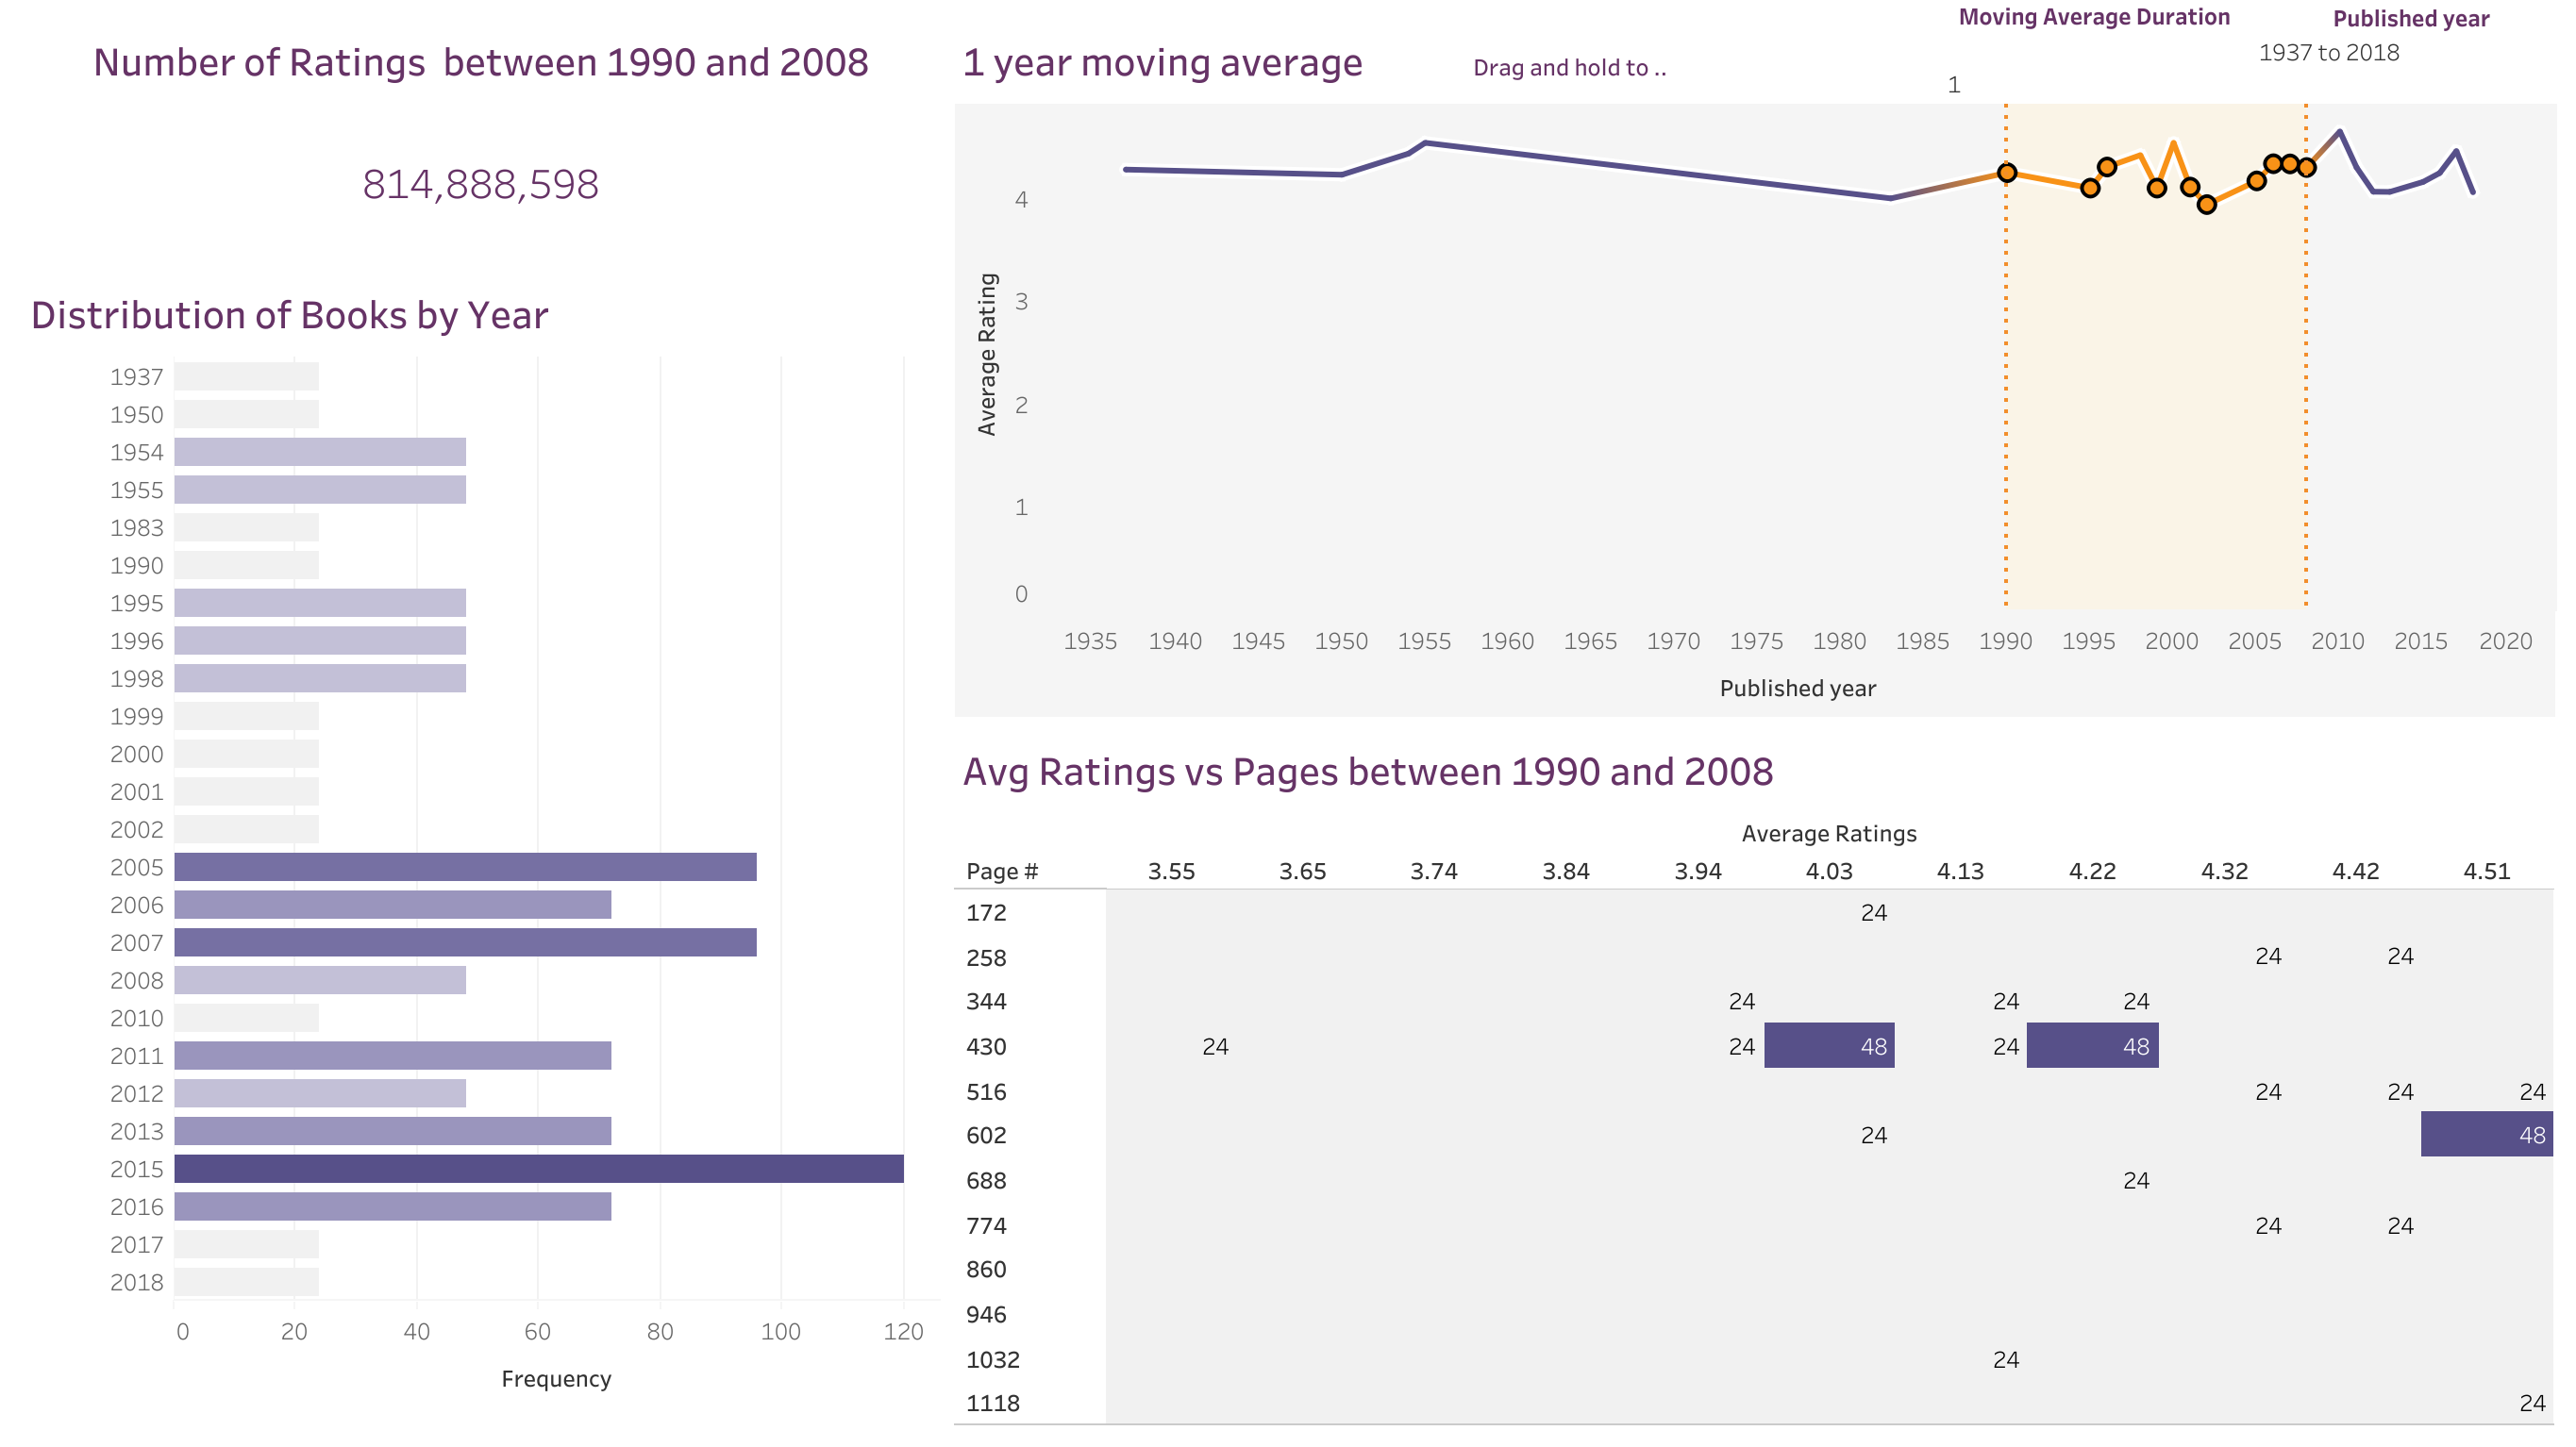

Layout of this report page (visuals, bound fields, positions):
{"tool":"tableau","page":{"name":"Dashboard 1","canvas":[1366,768],"ordinal":0},"visuals":[{"type":"worksheet","title":"Total ratings by year","mark":"Automatic","box":[8,8,494,134]},{"type":"worksheet","title":"Moving Average","mark":"Automatic","rows":["Calculation_4190529099309002755"],"cols":["Published_year"],"box":[502,8,856,376]},{"type":"text","box":[778,18,107,34]},{"type":"worksheet","title":"Distribution of Books by Year","mark":"Bar","rows":["Published_year"],"cols":["Calculation_4190529099497226254"],"box":[8,142,494,618]},{"type":"worksheet","title":"Heatmap","mark":"Square","rows":["Pages (bin)"],"cols":["Avg Ratings (bin)"],"box":[502,384,856,376]}]}

Visuals, with their boxes in screenshot pixels (x1, y1, x2, y2), scaled from the page's 1366x768 canvas onto the 2576x1447 screenshot:
"Total ratings by year" worksheet: (15, 15, 946, 268)
"Moving Average" worksheet: (946, 15, 2561, 723)
text: (1467, 34, 1669, 98)
"Distribution of Books by Year" worksheet (Bar marks): (15, 268, 946, 1432)
"Heatmap" worksheet (Square marks): (946, 723, 2561, 1432)
